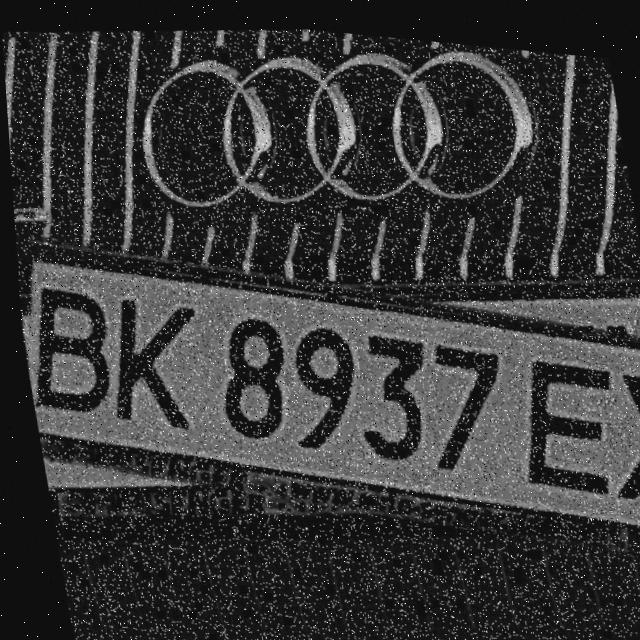LicensePlate: (10, 195, 640, 586)
